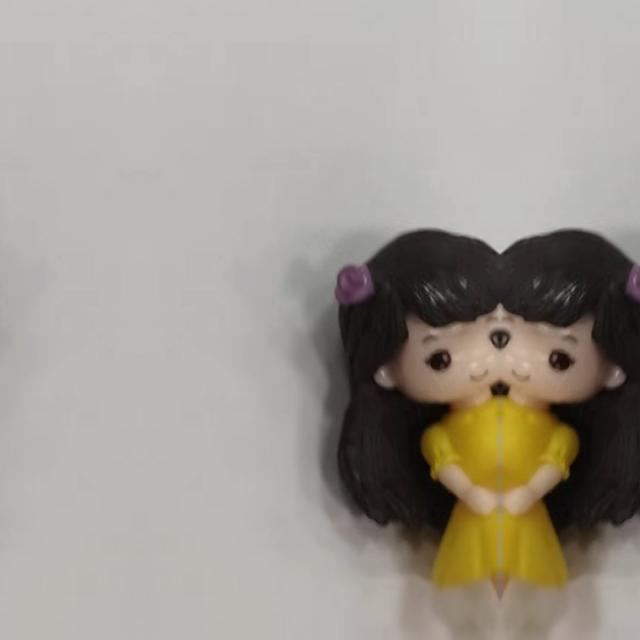woman head: (318, 220, 500, 440), (500, 220, 640, 440)
